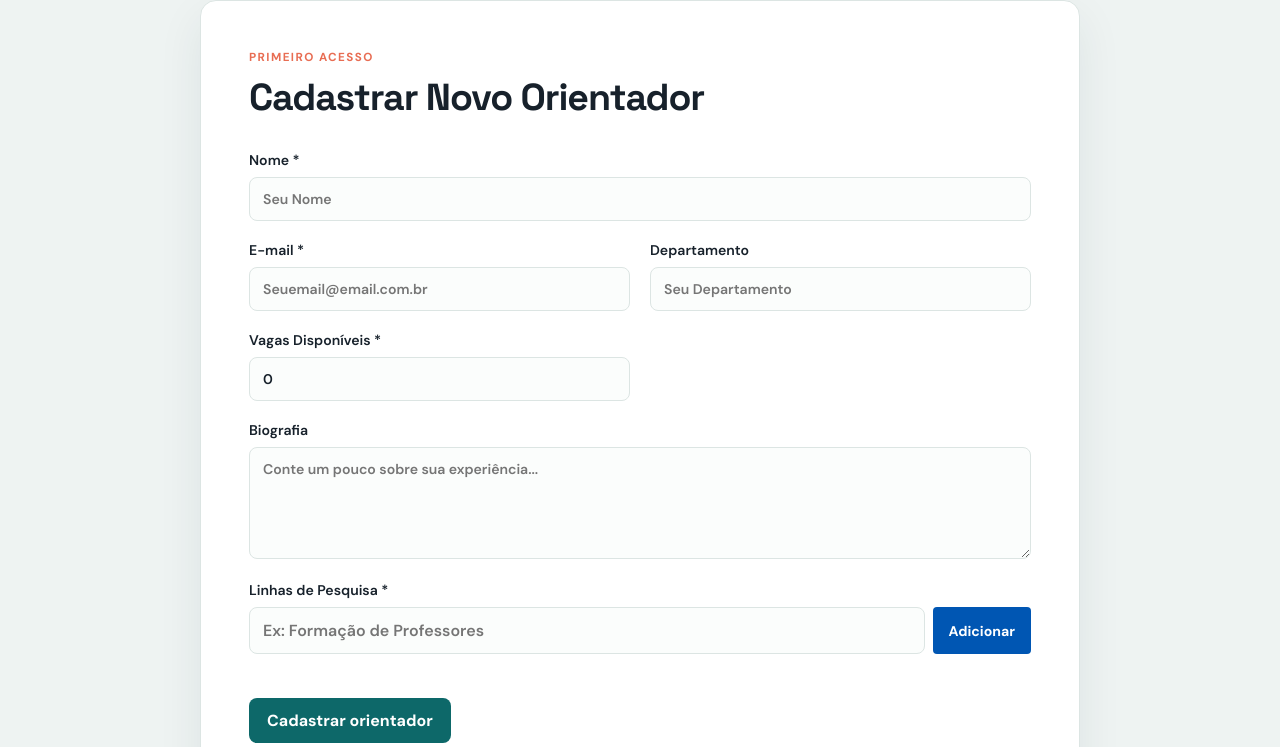
OrientadorForm › deve limpar o erro do campo ao voltar a digitar nele
The image size is (1280, 747).
Click the button "Cadastrar orientador". click: (350, 720)
box: [249,698,451,743]
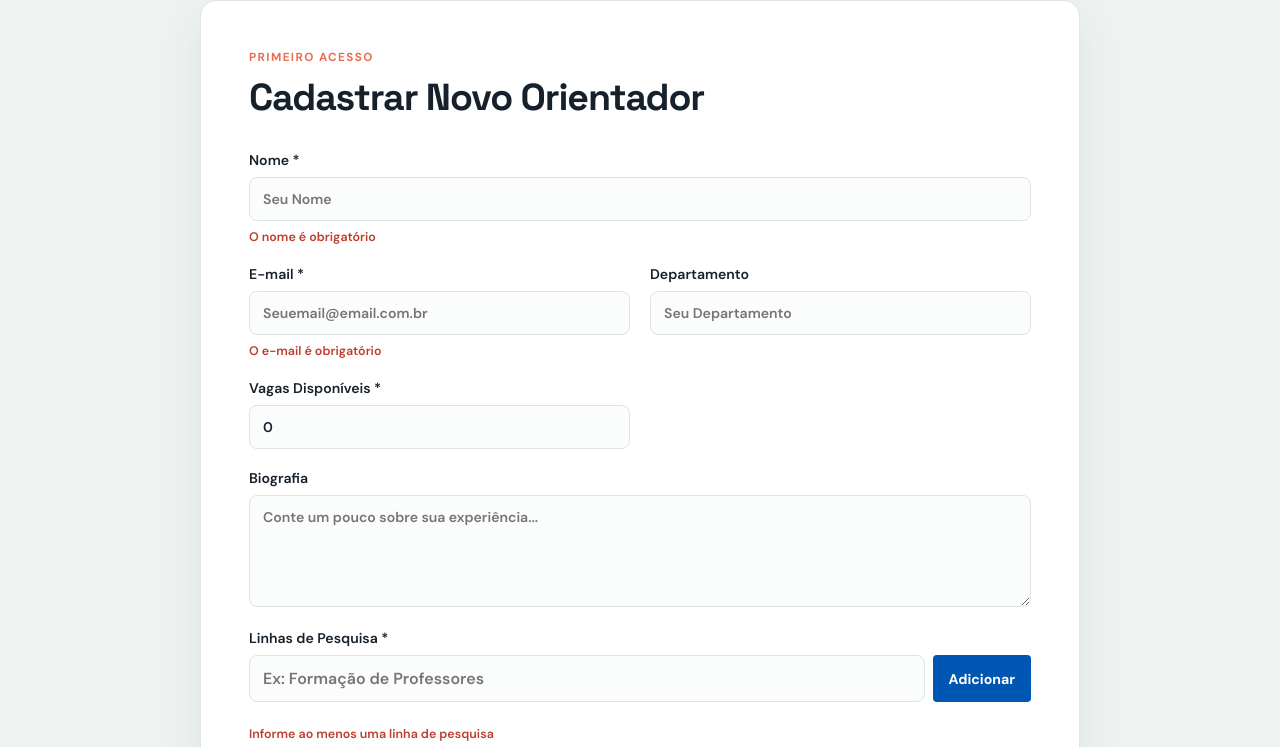
Now the text "O nome é obrigatório" is shown, box [249,229,376,245]
Type "A" into the field labelled "Nome * O nome é obrigatório". click: (640, 199)
box: [249,177,1031,221]
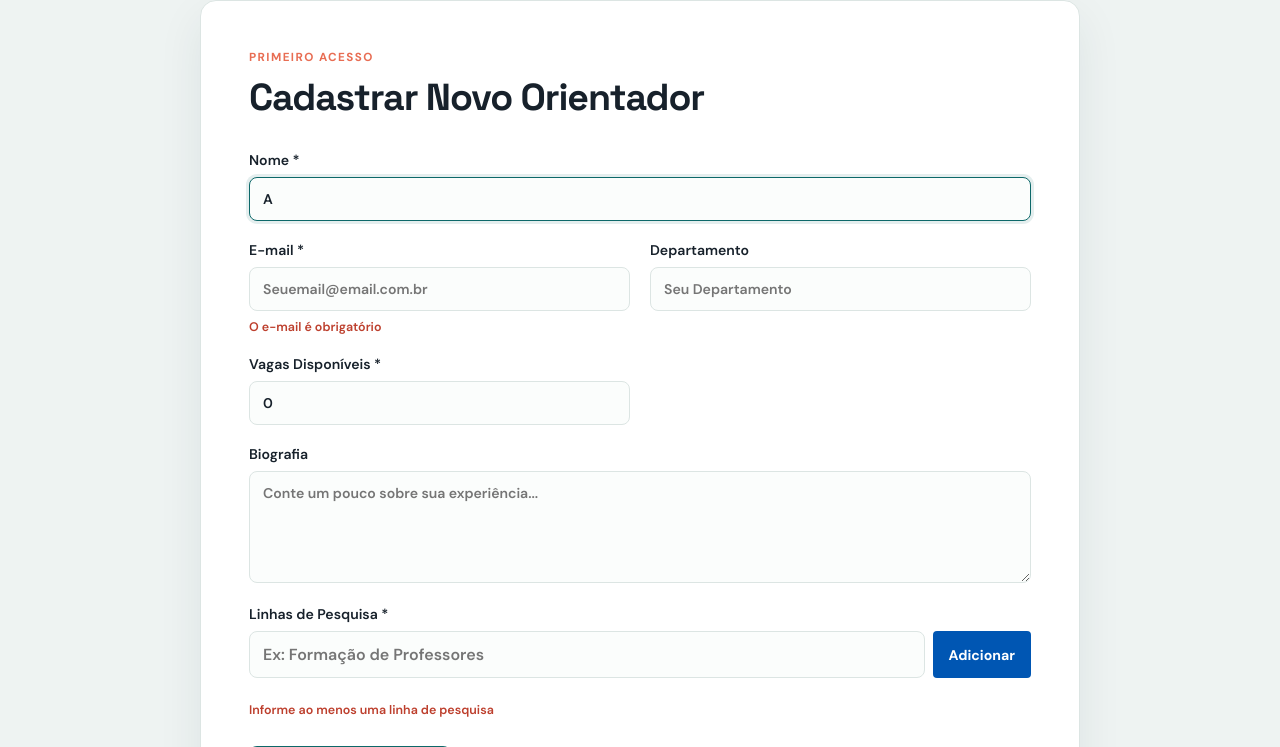
Now the text "O nome é obrigatório" is gone
